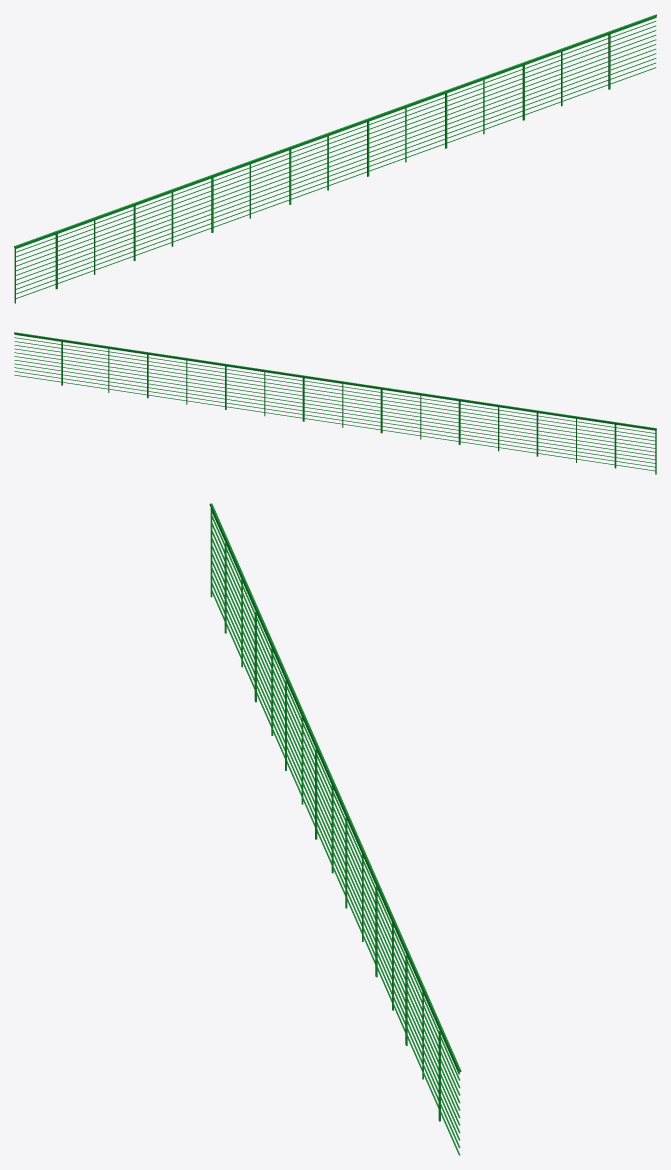
The model's file is FenceLateralRamp01.fbx.
The picture shows the model from 3 angles, top to bottom: view 1: azimuth 30°, elevation 25°; view 2: azimuth 150°, elevation 25°; view 3: azimuth 270°, elevation 25°; orthographic projection. The views are drawn at different scales.
Parts seen in each view (by area): view 1: FenceLateralRamp01; view 2: FenceLateralRamp01; view 3: FenceLateralRamp01.
Part boxes in pixels (x1,y1,x2,y2): FenceLateralRamp01: (14,14,656,303); FenceLateralRamp01: (14,332,656,474); FenceLateralRamp01: (209,503,461,1155).
Size of the model in its own units: 1622 by 124 by 304.
